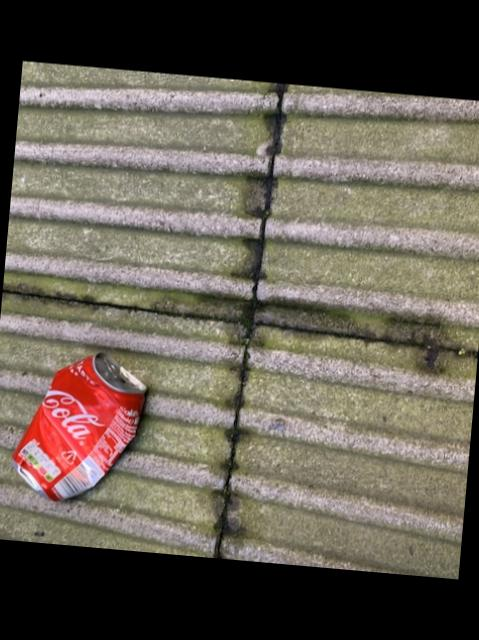metal: (12, 352, 144, 499)
